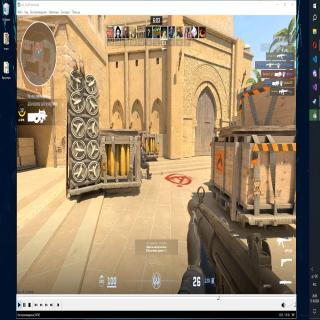CT-Head: (141, 143, 151, 180), (141, 144, 148, 153)
